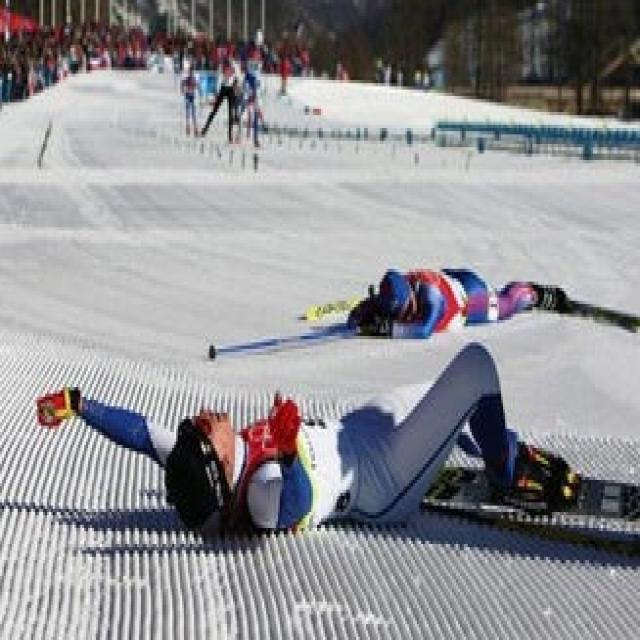10-: (0, 0, 630, 573)
down: (28, 314, 589, 547), (337, 230, 577, 346)
